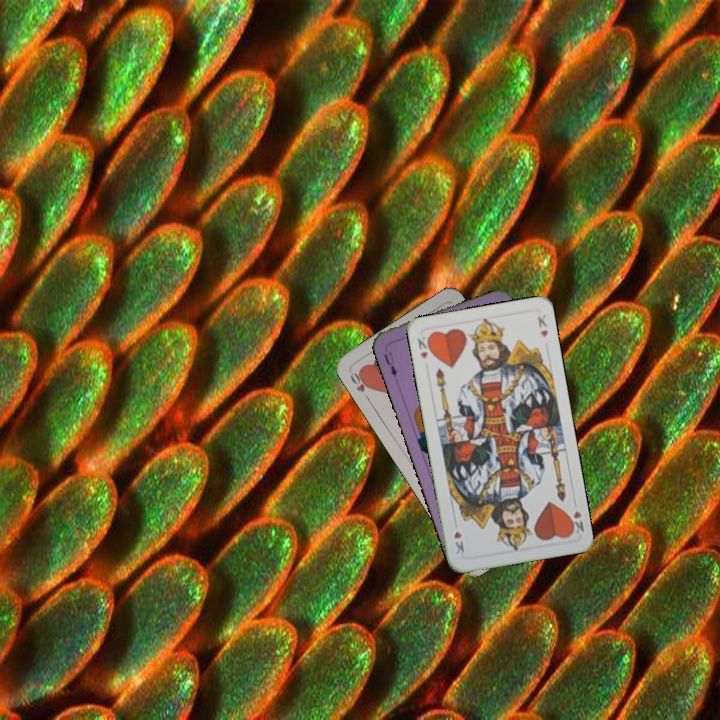EU: (380, 348, 400, 379)
HK: (565, 496, 587, 536), (413, 332, 430, 362)
HO: (346, 367, 373, 404)
